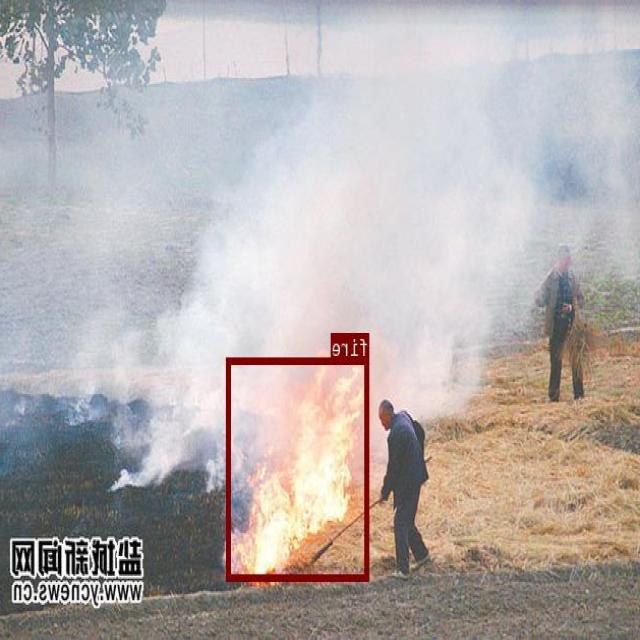fire: (228, 356, 370, 579)
